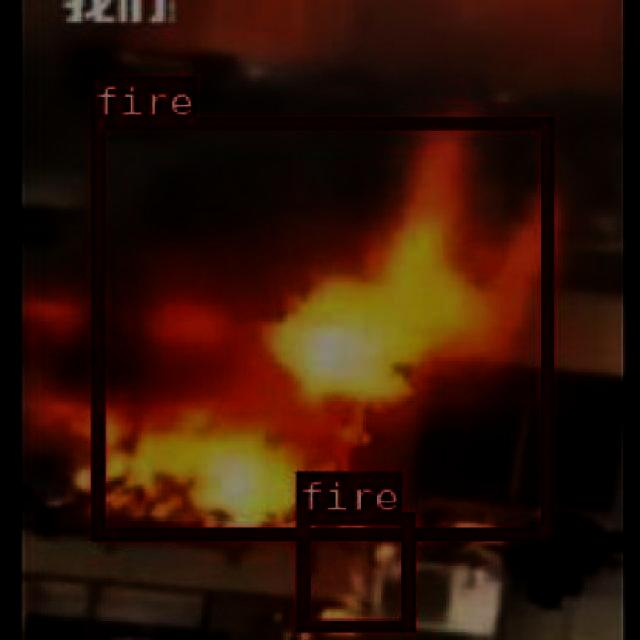fire: (88, 116, 550, 538), (294, 512, 412, 630)
